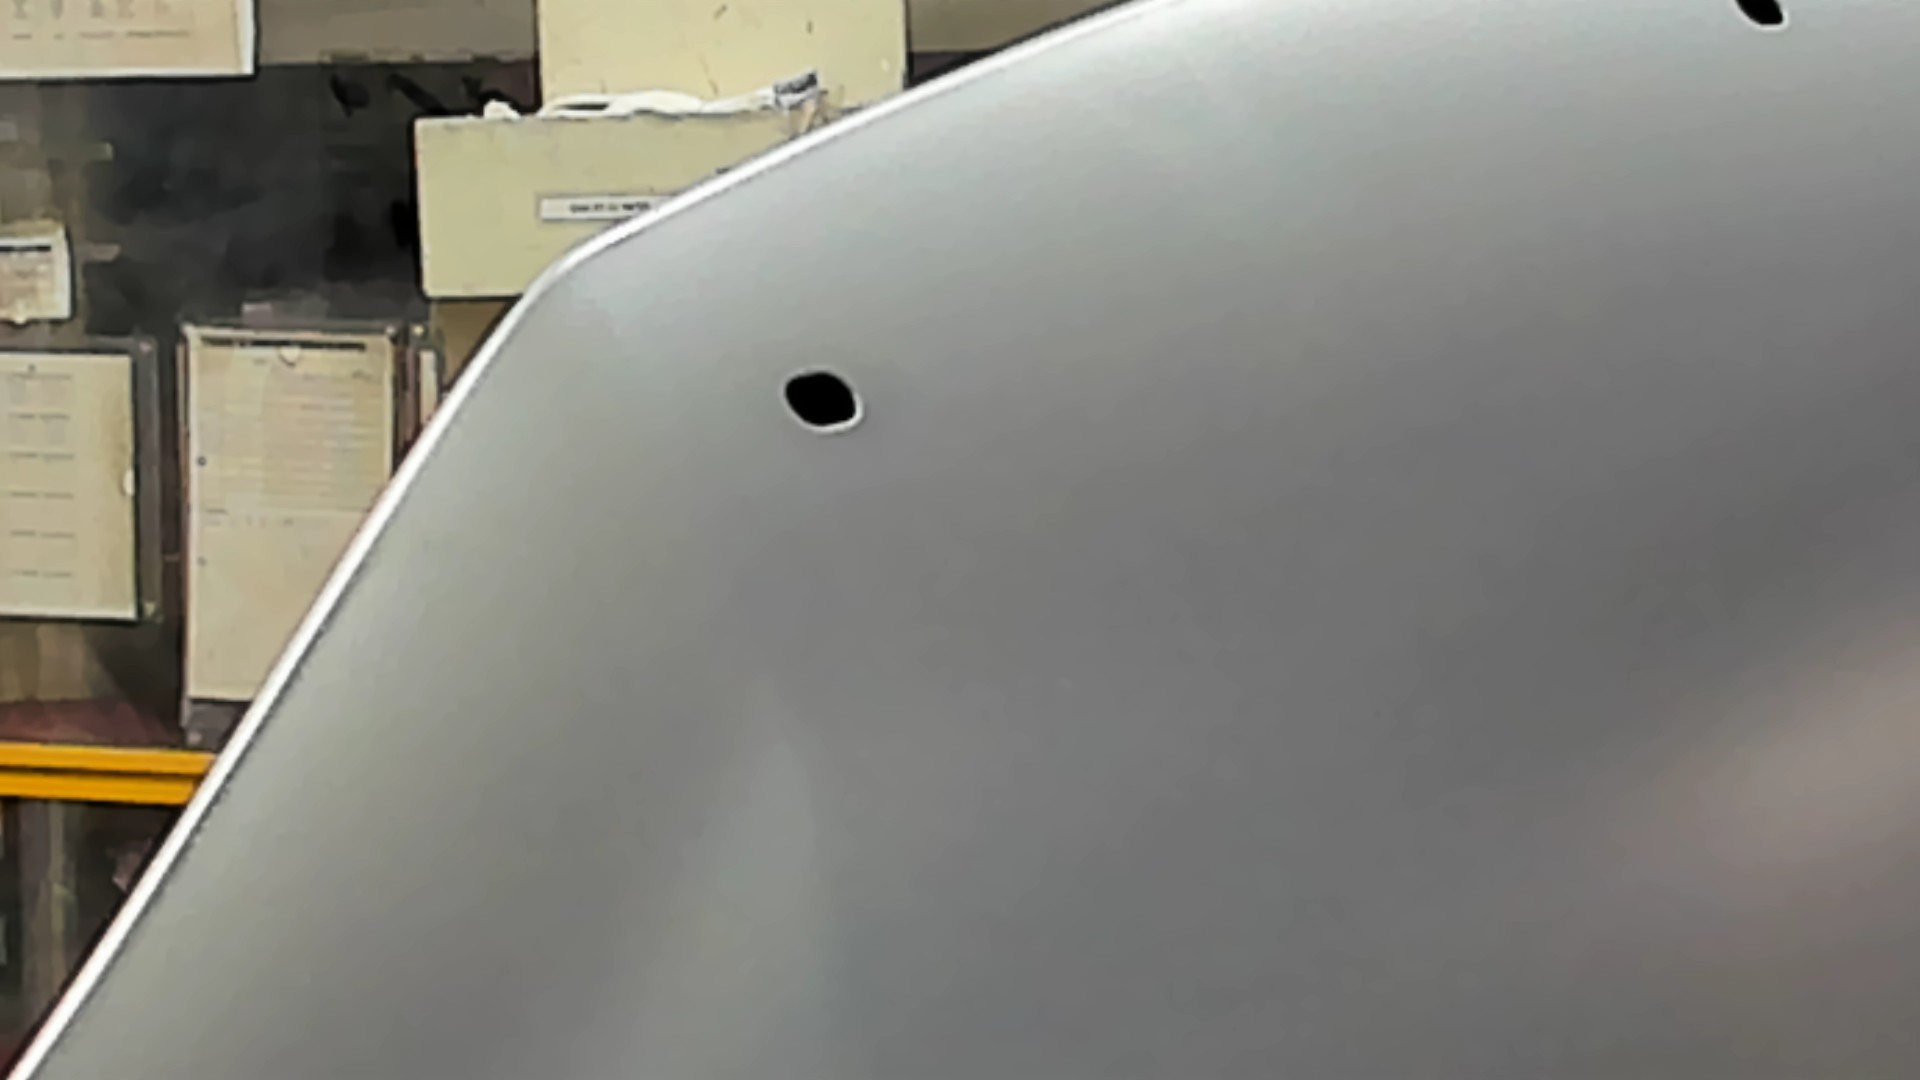amorfo: (773, 365, 869, 442), (1720, 1, 1805, 41)
